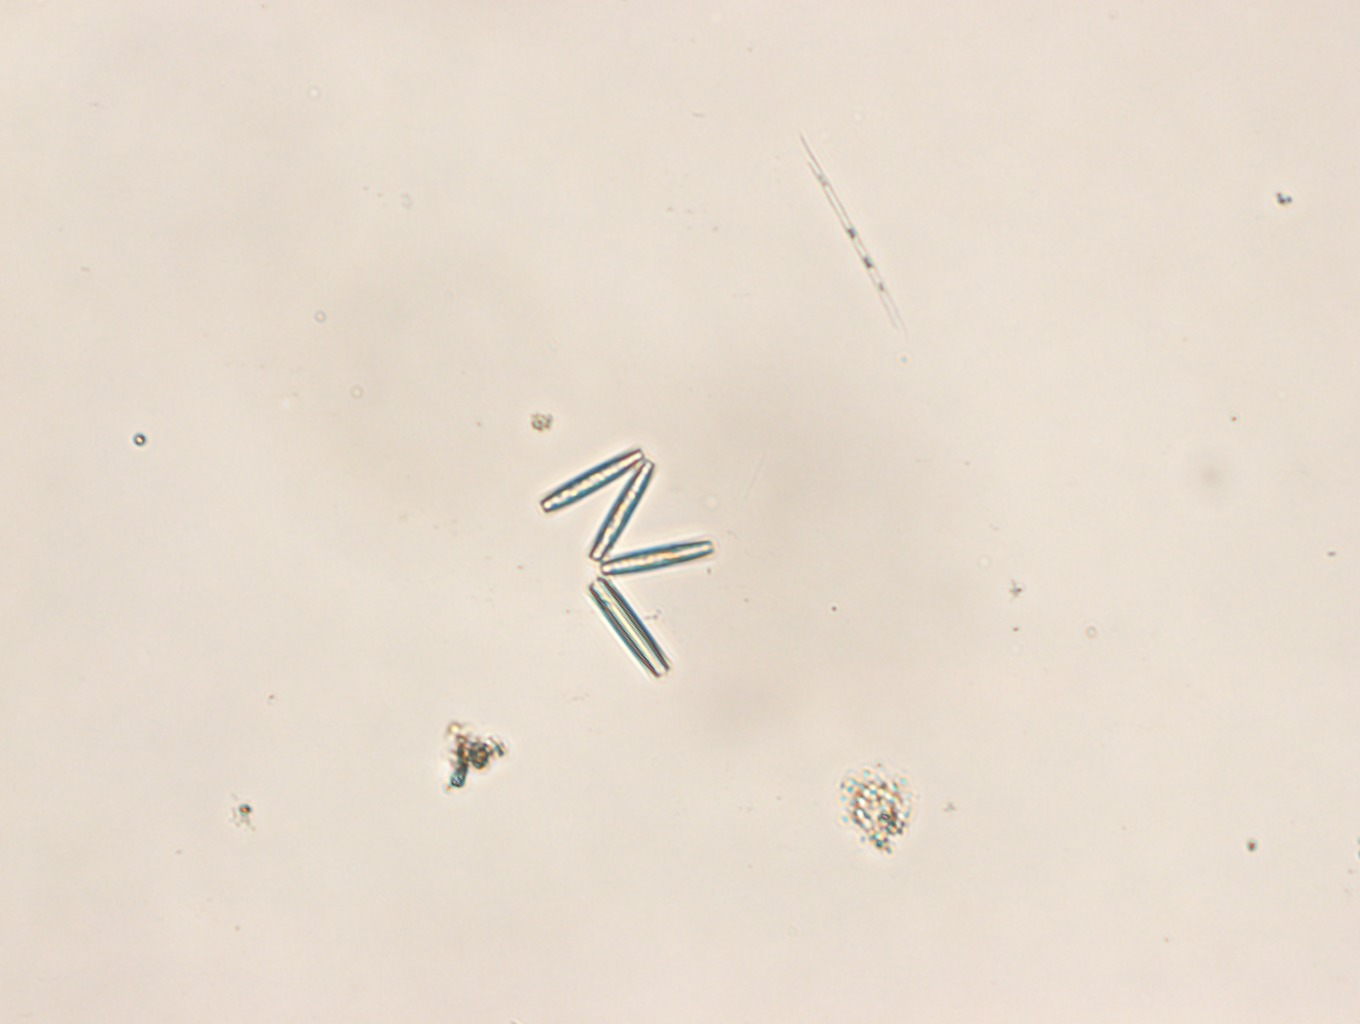thalassionema nitzschioides: (539, 445, 713, 680)
